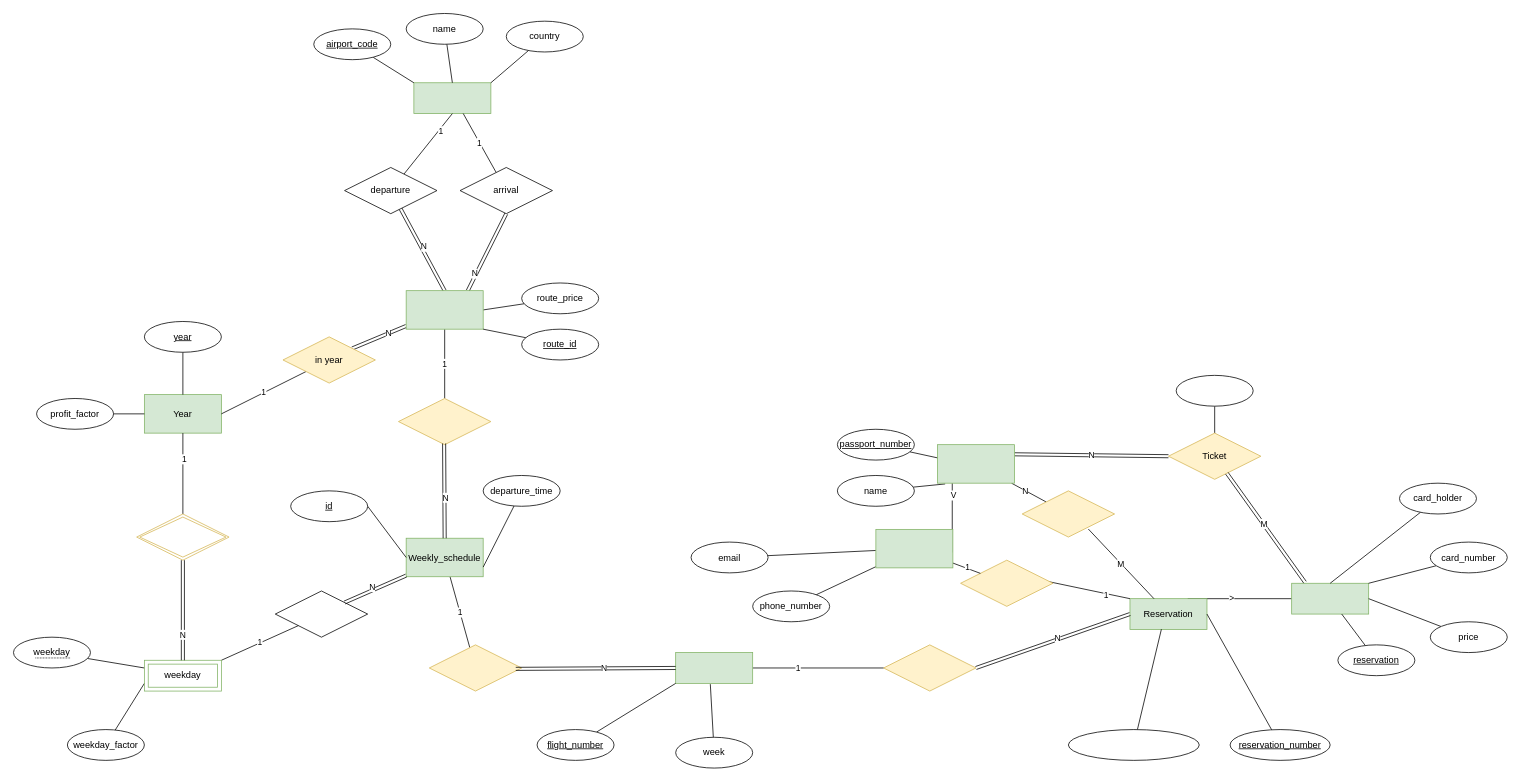
Image size: 1521x782. Some labels were removed from this diagram. The centre of each missing label's shape, as x and y in pixels:
Airport: [452,98]
Booking: [1330,598]
Contact: [914,548]
contact in: [1006,582]
Flight: [714,667]
has reservation: [1068,513]
has route: [444,421]
has weekday: [182,536]
number_of_passengers: [1133,744]
on weekday: [321,613]
Passenger: [975,463]
reserved flight: [929,667]
Route: [444,309]
scheduled: [475,667]
ticket_number: [1214,390]
